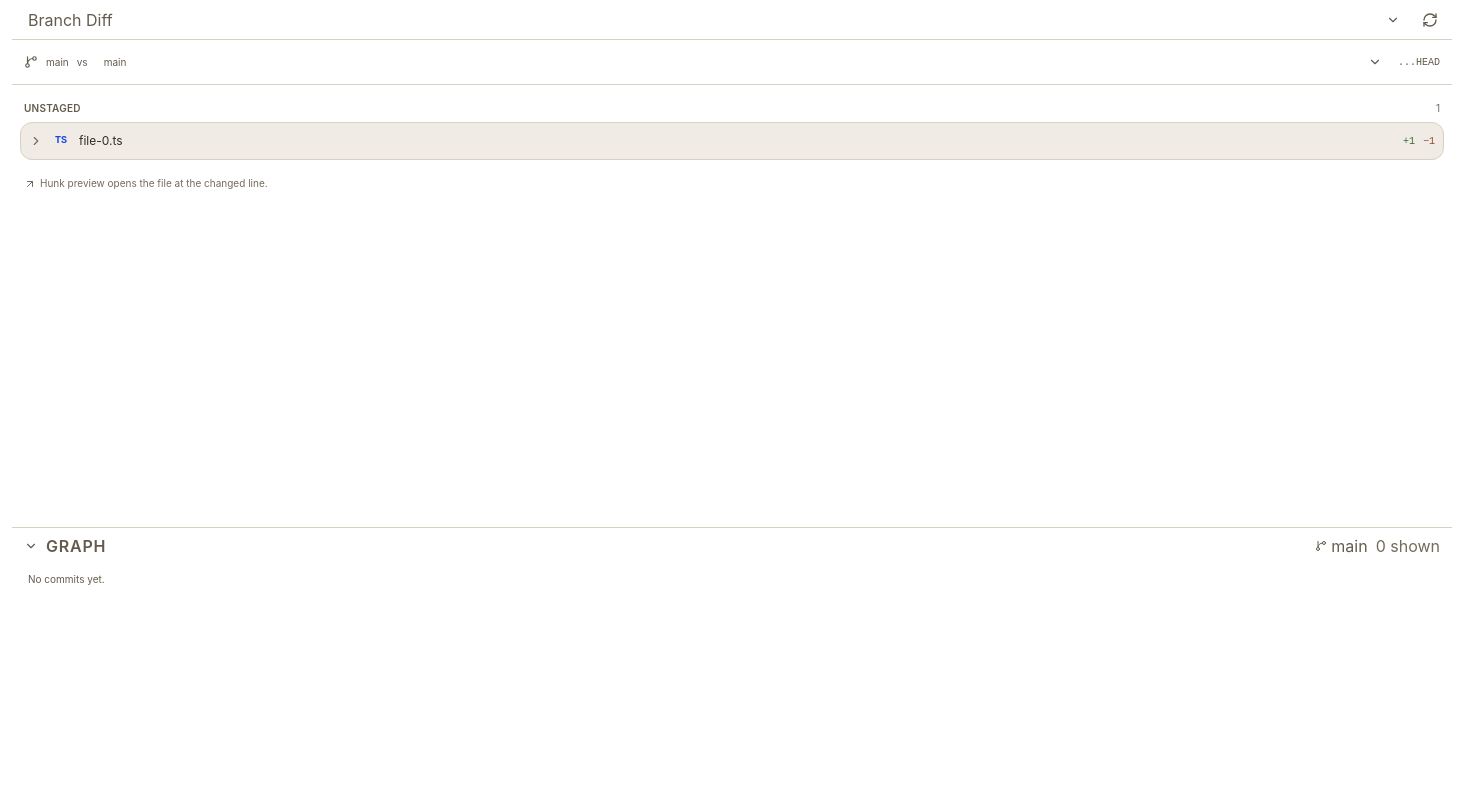
Scenario: keeps folded context expandable within the diff row budget
Click the button "TS file-0.ts +1 −1". click: (101, 140)
box: [21, 123, 1443, 159]
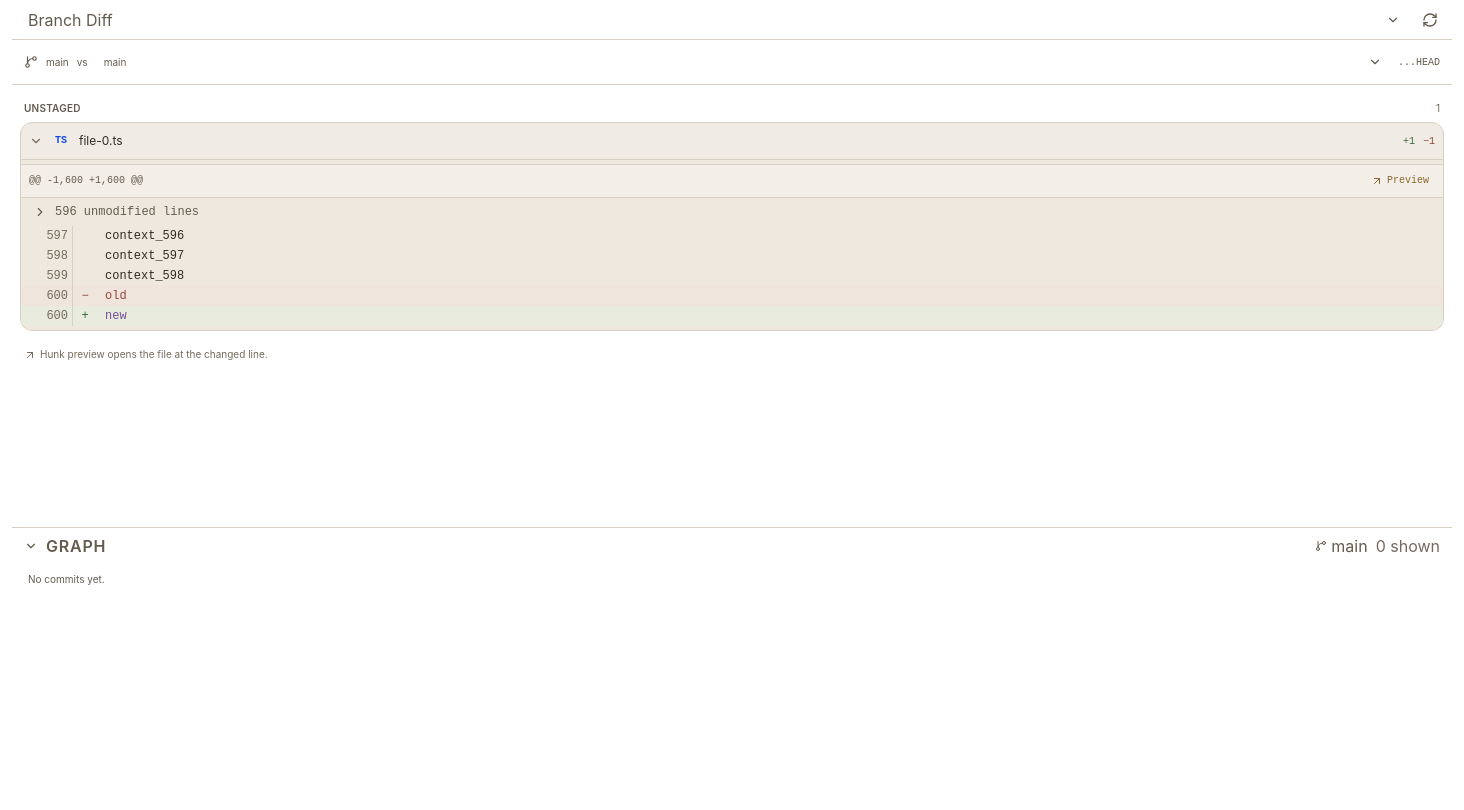
Click the button "596 unmodified lines". click: (120, 212)
box: [21, 198, 1443, 226]
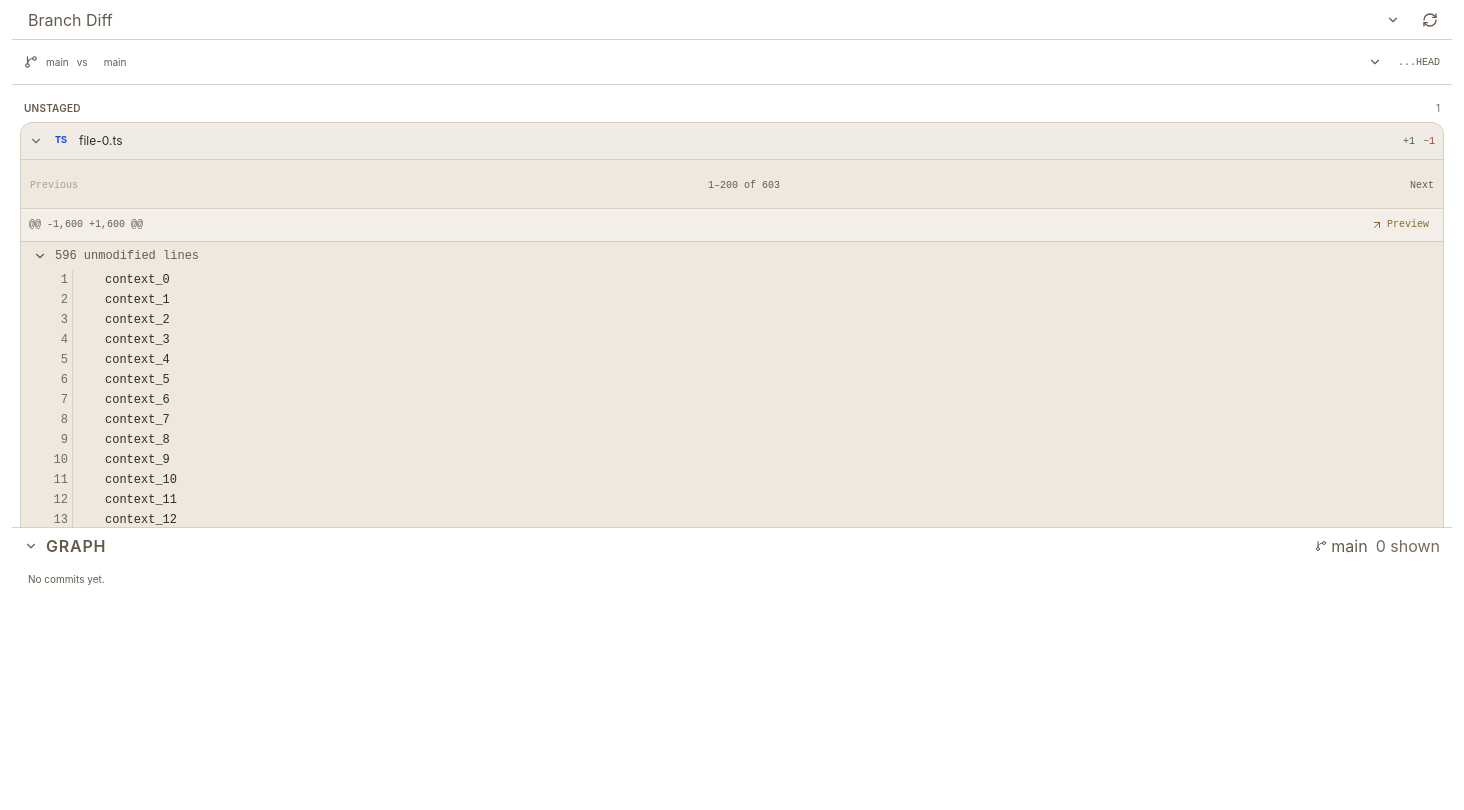
Expected: the text "context_0" is shown, [105, 273, 170, 287]
Click the button "596 unmodified lines". click: (120, 256)
box: [21, 242, 1443, 270]
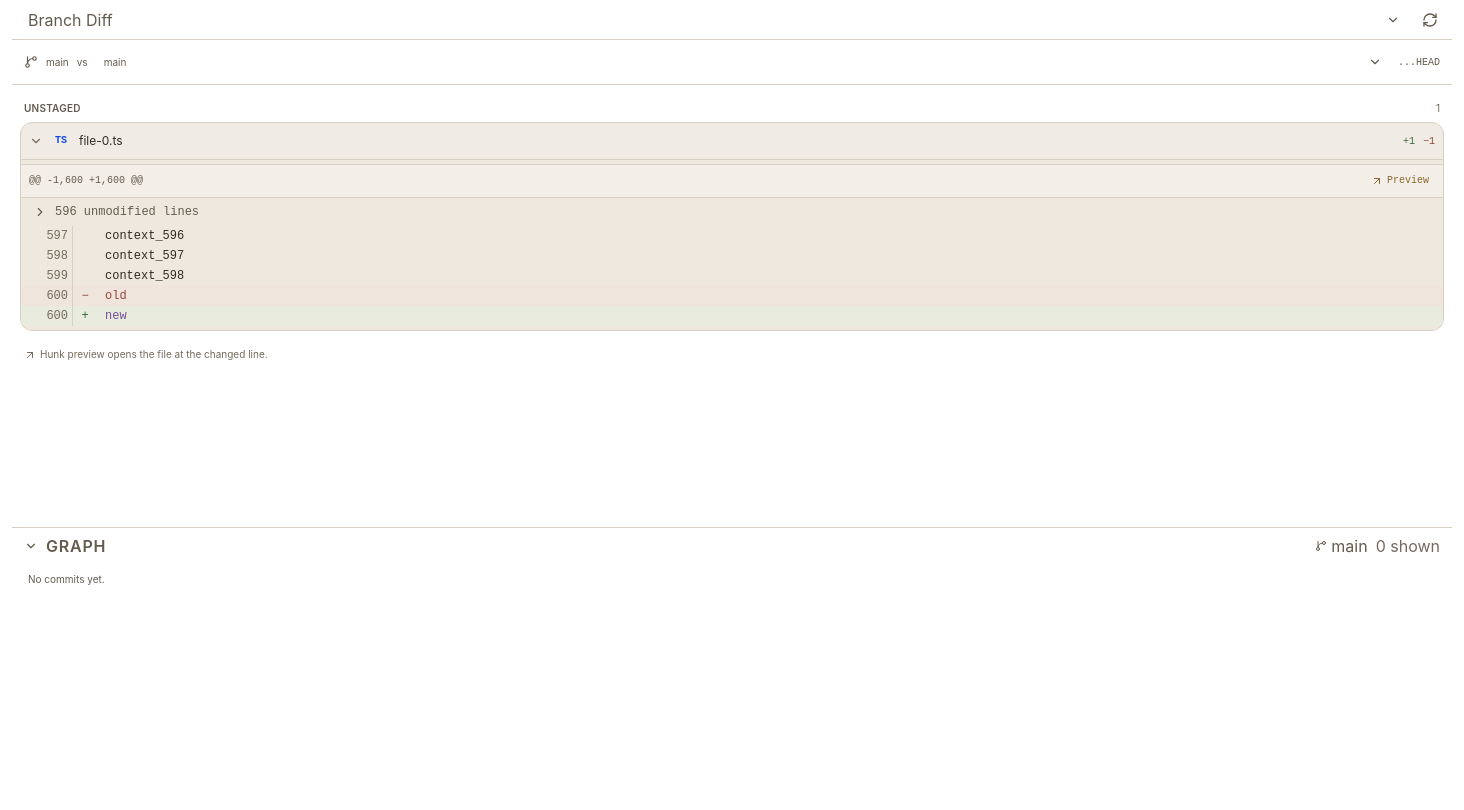
Expected: the text "context_0" is gone
